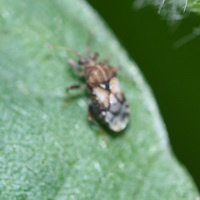insect: (53, 46, 128, 131)
